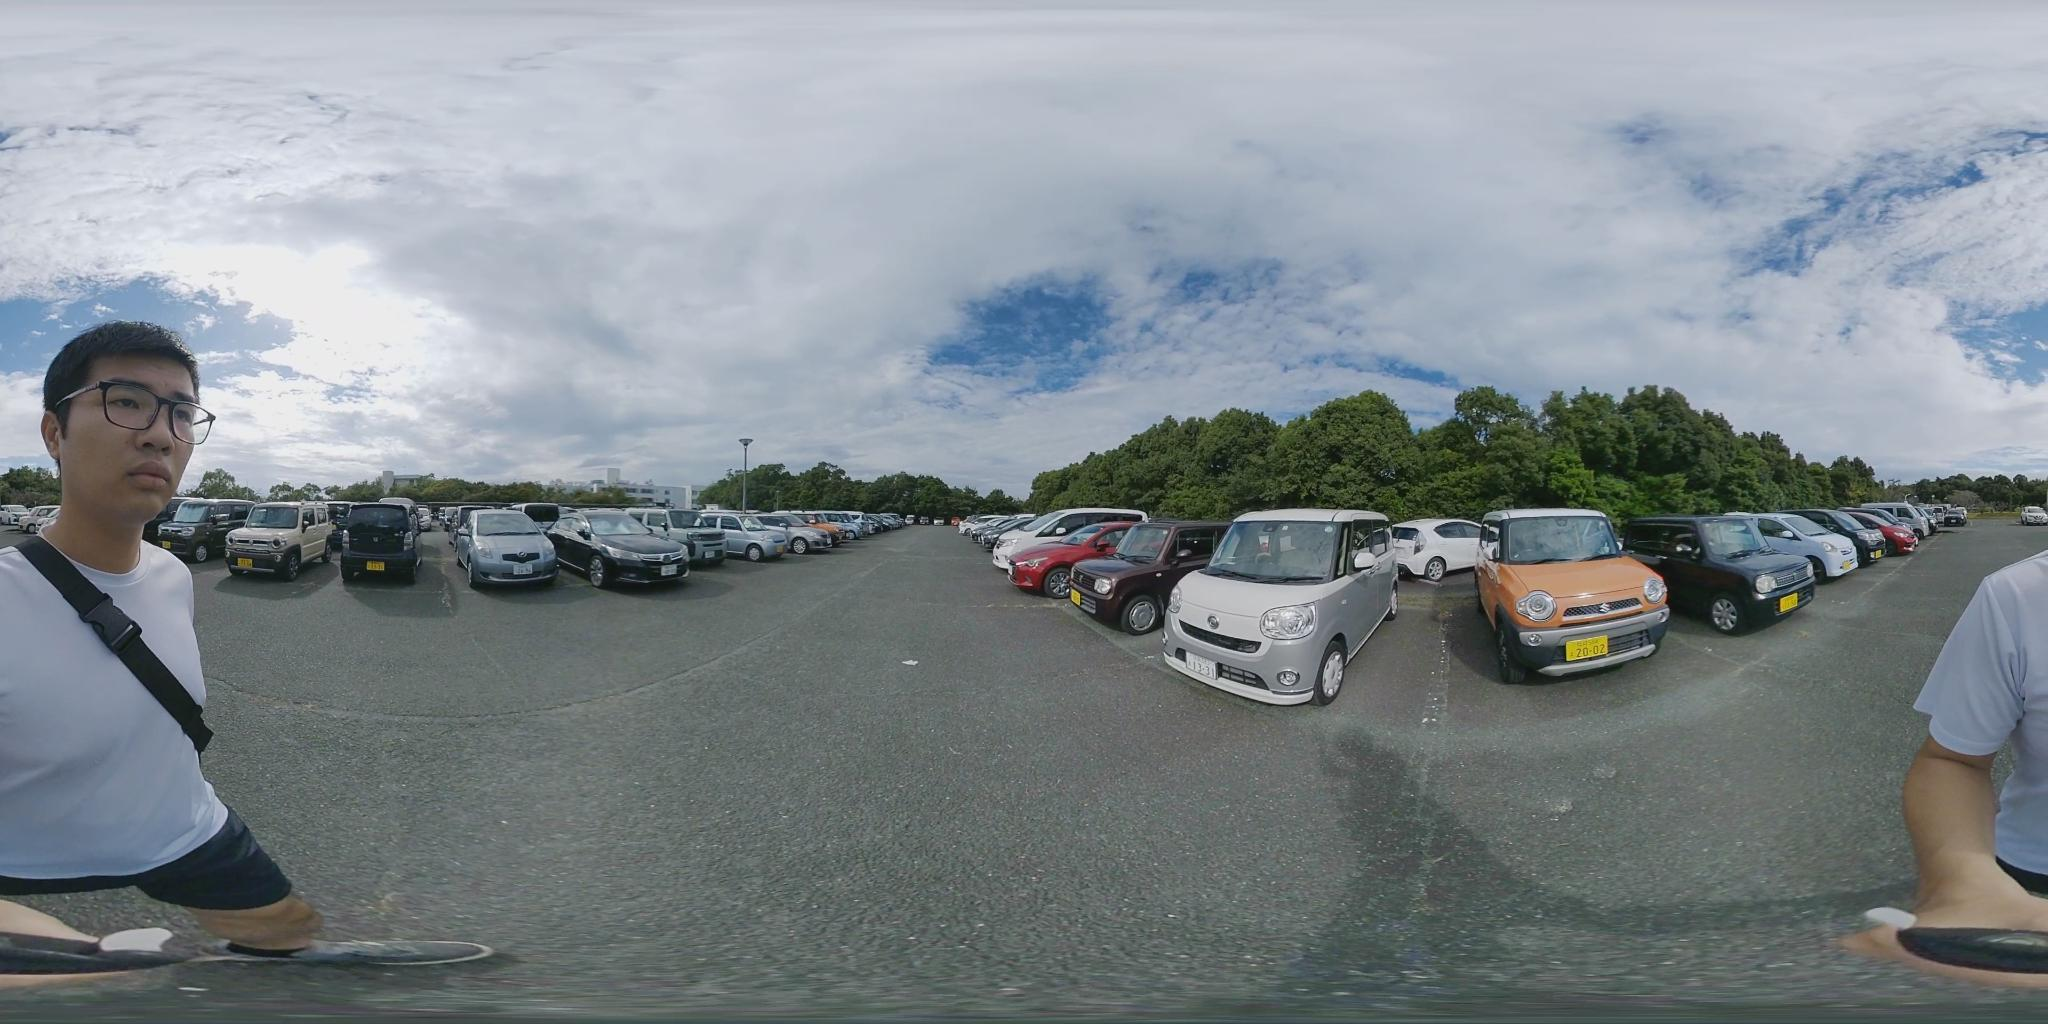car: (1155, 509, 1411, 703), (1469, 509, 1681, 683), (1617, 516, 1830, 637), (1057, 525, 1240, 636), (1000, 513, 1147, 594), (550, 512, 699, 589), (230, 504, 334, 583), (461, 511, 567, 588), (974, 508, 1139, 555), (1746, 513, 1860, 581), (1384, 519, 1498, 583), (342, 503, 418, 585), (688, 516, 816, 562), (149, 502, 246, 556), (1817, 512, 1898, 567), (1842, 509, 1923, 559), (760, 516, 841, 551), (1869, 503, 1933, 538), (964, 516, 1021, 543), (825, 516, 878, 538), (1929, 503, 1974, 526), (865, 515, 905, 536), (2014, 505, 2044, 524)
